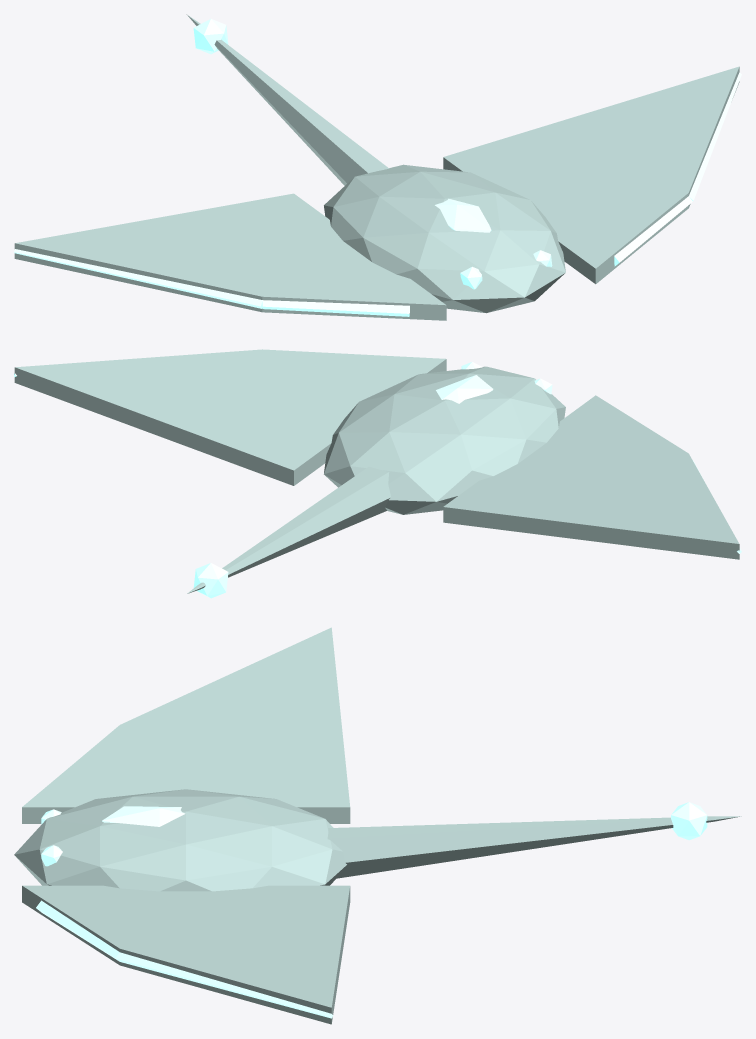
Rendered from cefiro.glb.
3 renders of one model, top to bottom at view 1: azimuth 30°, elevation 25°; view 2: azimuth 150°, elevation 25°; view 3: azimuth 270°, elevation 25°, orthographic. The views are drawn at different scales.
Visible parts, largest first — view 1: CefiroBody, CefiroWingL, CefiroWingR; view 2: CefiroWingR, CefiroBody, CefiroWingL; view 3: CefiroBody, CefiroWingL, CefiroWingR.
Part boxes in pixels (left/top/right/bottom): CefiroBody: left=186, top=14, right=565, bottom=313; CefiroWingL: left=14, top=193, right=446, bottom=320; CefiroWingR: left=443, top=66, right=741, bottom=284; CefiroWingR: left=14, top=349, right=446, bottom=485; CefiroBody: left=187, top=361, right=565, bottom=598; CefiroWingL: left=443, top=395, right=741, bottom=559; CefiroBody: left=14, top=789, right=741, bottom=891; CefiroWingL: left=22, top=627, right=350, bottom=823; CefiroWingR: left=22, top=885, right=350, bottom=1024.
Size of the model in its own units: 3.42 by 0.4 by 2.75.
